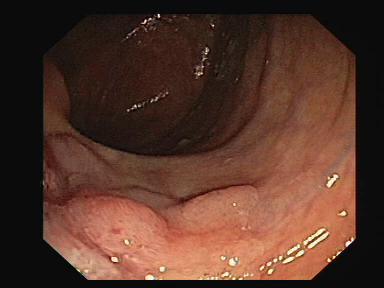polyp: (41, 115, 274, 268)
